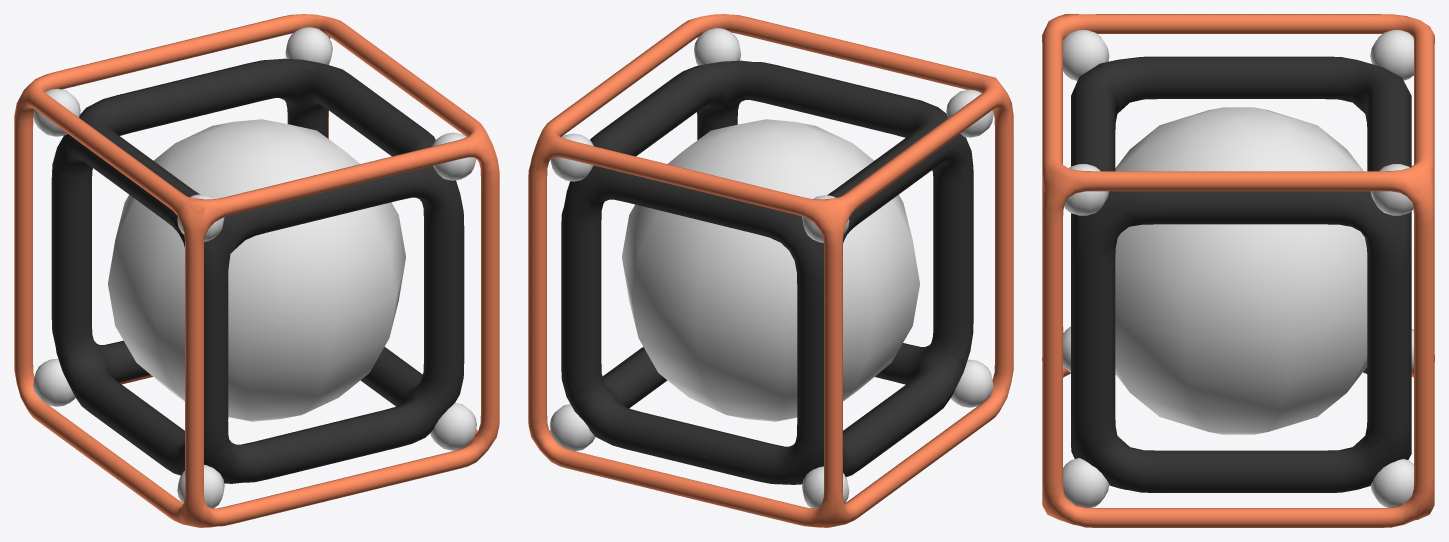
Rendered from physicsbox.fbx.
3 views of the same model, side by side, from view 1: azimuth 30°, elevation 25°; view 2: azimuth 150°, elevation 25°; view 3: azimuth 270°, elevation 25° (orthographic). The views are drawn at different scales.
Visible parts, largest first — view 1: Cube; view 2: Cube; view 3: Cube.
Part boxes in pixels (left/top/right/bottom): Cube: left=14, top=14, right=499, bottom=527; Cube: left=528, top=14, right=1013, bottom=527; Cube: left=1042, top=14, right=1434, bottom=527.
Size of the model in its own units: 1056 by 1058 by 1057.
